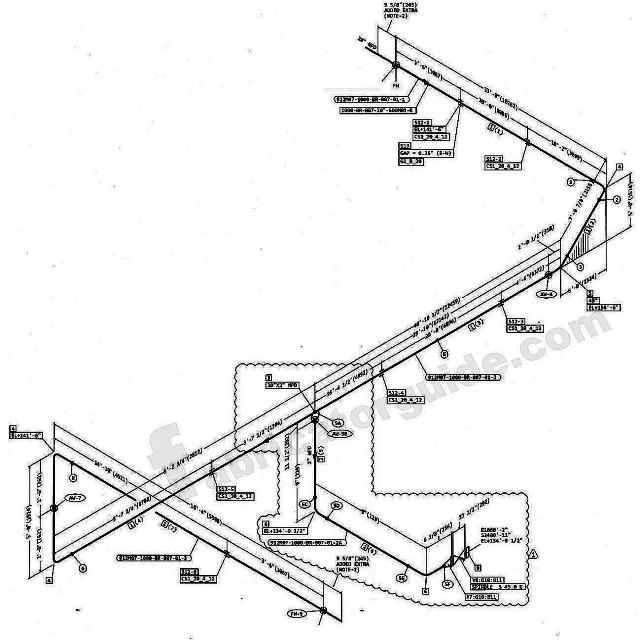Item number: (387, 387, 406, 397), (483, 153, 503, 161), (587, 294, 600, 303), (566, 178, 577, 187), (9, 424, 16, 434), (264, 374, 271, 382)
Measrement: (346, 256, 537, 372), (156, 383, 308, 477), (213, 403, 313, 461), (240, 545, 323, 601), (54, 434, 138, 489), (341, 494, 424, 547), (422, 491, 496, 545), (528, 124, 605, 173), (460, 86, 529, 132), (313, 358, 379, 404), (396, 50, 461, 92), (560, 181, 592, 238), (560, 266, 606, 298), (516, 223, 555, 250), (35, 459, 44, 515), (626, 170, 634, 231), (36, 516, 43, 576)
Pipeline: (90, 241, 566, 547), (364, 46, 607, 248), (301, 433, 455, 577)
Symbol: (593, 173, 610, 205)
Weld number: (443, 580, 454, 589)
other: (337, 105, 416, 115), (383, 0, 418, 21), (115, 555, 194, 562), (411, 129, 452, 142), (336, 555, 369, 571), (425, 374, 500, 381), (505, 321, 544, 334), (178, 575, 218, 585), (9, 431, 43, 440), (397, 157, 426, 167), (386, 397, 425, 404), (265, 381, 299, 389), (587, 304, 622, 311)
